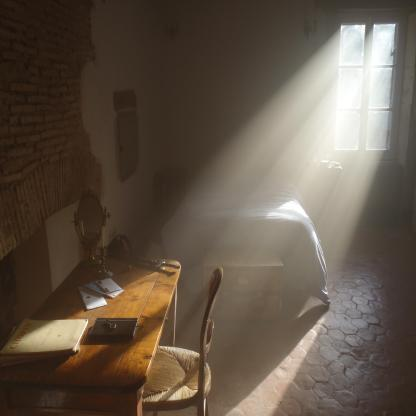other: (329, 29, 366, 156)
